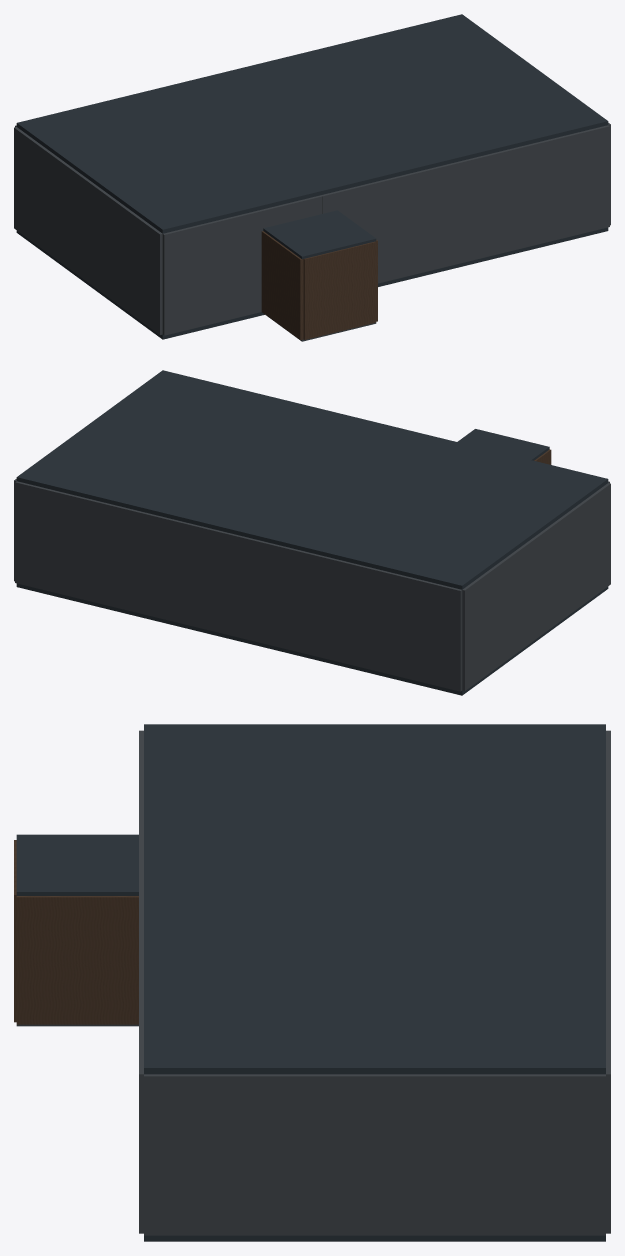
File: division.glb
3 views of the same model, one above another, from view 1: azimuth 30°, elevation 25°; view 2: azimuth 150°, elevation 25°; view 3: azimuth 270°, elevation 25° (orthographic). The views are drawn at different scales.
Parts seen in each view (by area): view 1: Oversight / ceiling plenum, Oversight / outer wall.002, Oversight / outer wall.003, Oversight / outer wall.001, Oversight / departure rear, Oversight / departure return, Oversight / departure ceiling, Oversight / foundation, Oversight / lift lintel; view 2: Oversight / ceiling plenum, Oversight / outer wall, Oversight / outer wall.003, Oversight / foundation, Oversight / departure ceiling; view 3: Oversight / ceiling plenum, Oversight / outer wall.004, Oversight / departure return.001, Oversight / departure ceiling, Oversight / foundation, Oversight / outer wall, Oversight / outer wall.002.
Boxes of the visible parts, x1,y1,x2,y2 form: Oversight / ceiling plenum: (16,14,608,233); Oversight / outer wall.002: (321,125,609,283); Oversight / outer wall.003: (14,127,162,334); Oversight / outer wall.001: (162,206,278,335); Oversight / departure rear: (303,241,375,339); Oversight / departure return: (261,231,303,340); Oversight / departure ceiling: (263,210,376,259); Oversight / foundation: (16,227,608,339); Oversight / lift lintel: (277,195,322,224); Oversight / ceiling plenum: (16,370,608,589); Oversight / outer wall: (15,481,462,691); Oversight / outer wall.003: (462,483,610,690); Oversight / foundation: (16,583,608,695); Oversight / departure ceiling: (457,429,549,460); Oversight / ceiling plenum: (144,724,605,1074); Oversight / outer wall.004: (144,1074,605,1235); Oversight / departure return.001: (16,896,138,1024); Oversight / departure ceiling: (16,834,138,895); Oversight / foundation: (144,1235,605,1241); Oversight / outer wall: (606,730,610,1233); Oversight / outer wall.002: (139,852,143,1233).
Bounding box in the file's own units: 16.4 × 3.82 × 11.89.
14 materials, 2 textured.
